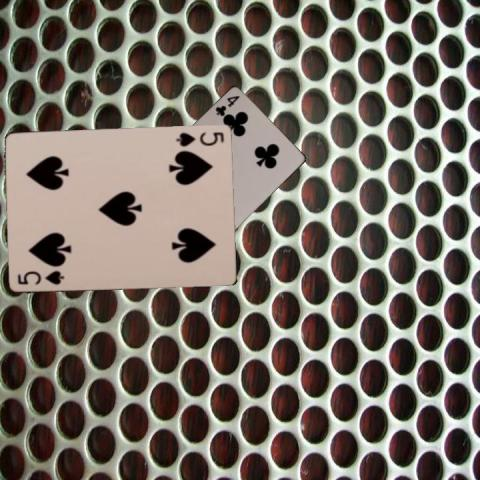4c: (212, 93, 241, 118)
5s: (15, 267, 66, 286), (174, 129, 226, 147)
